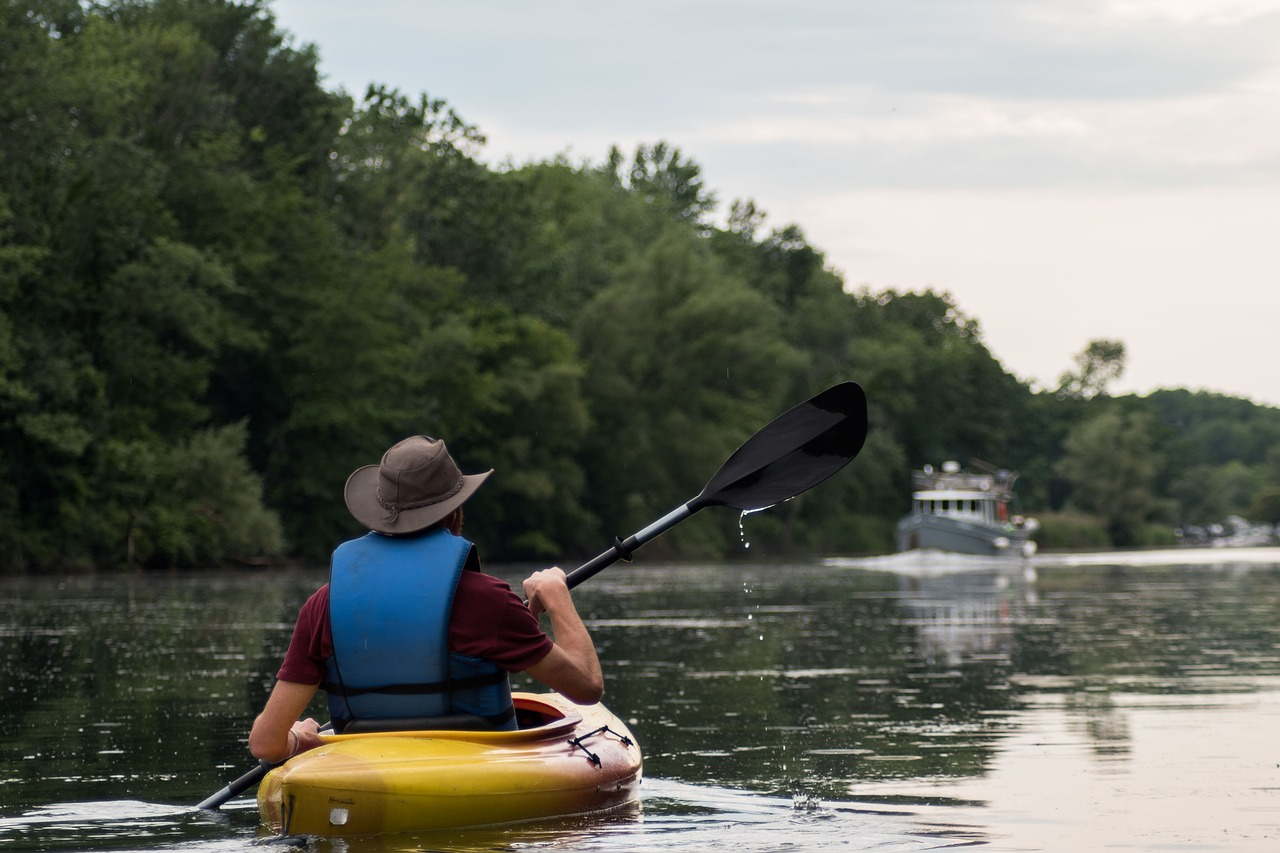kayak: (256, 675, 647, 842)
